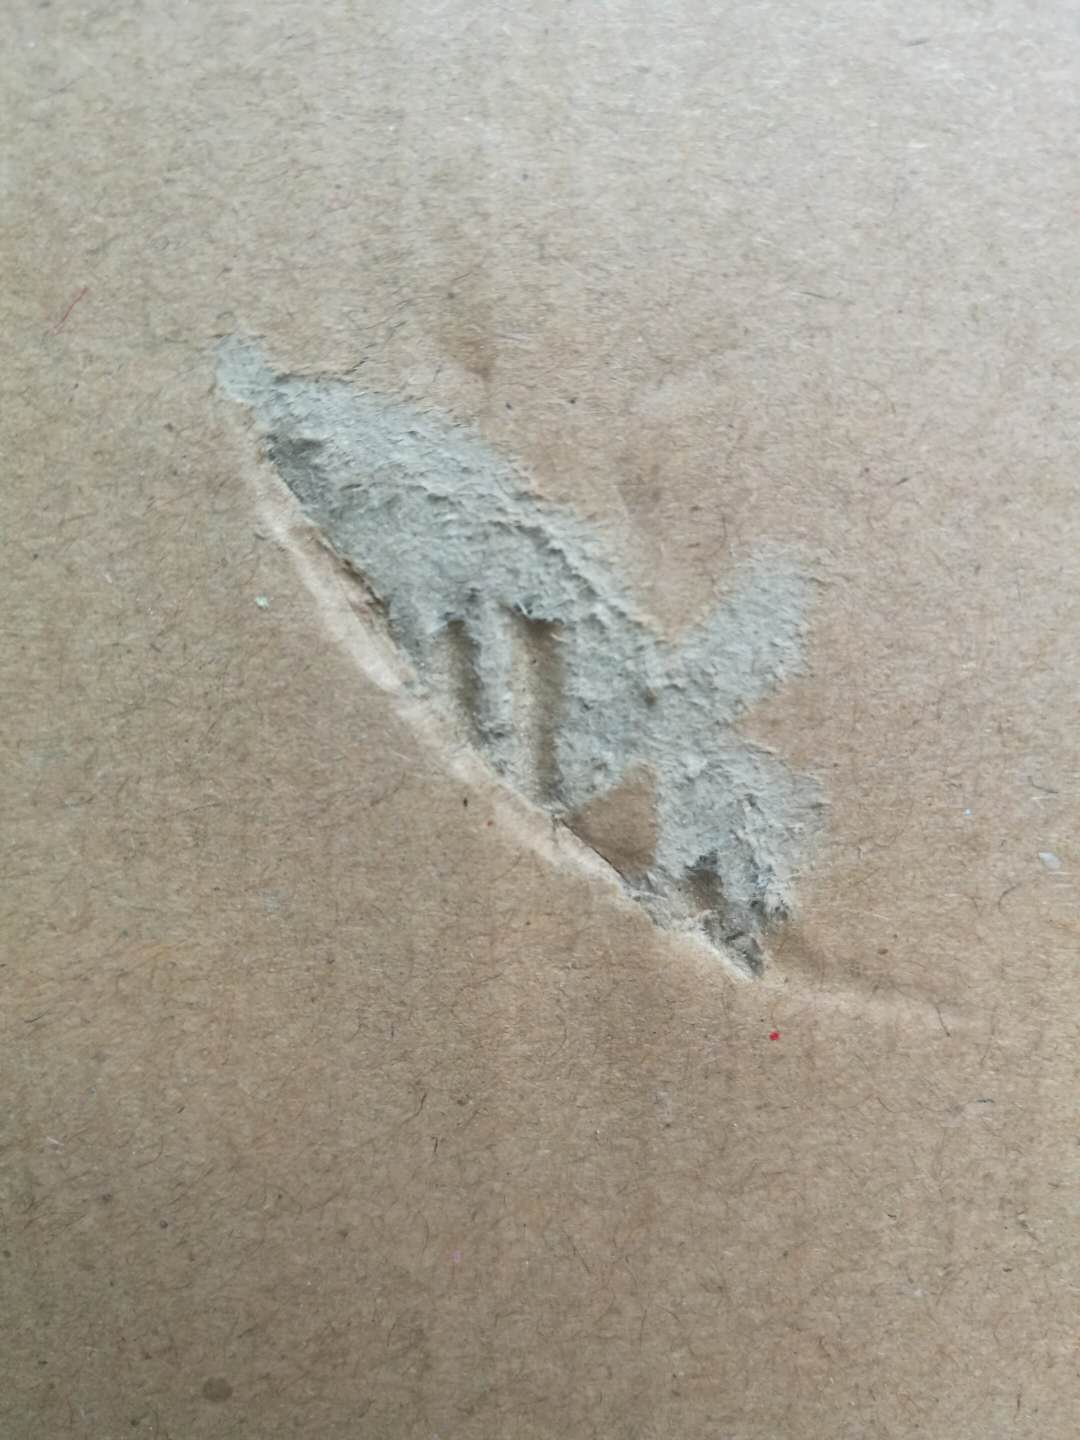defect: (147, 278, 999, 1081)
